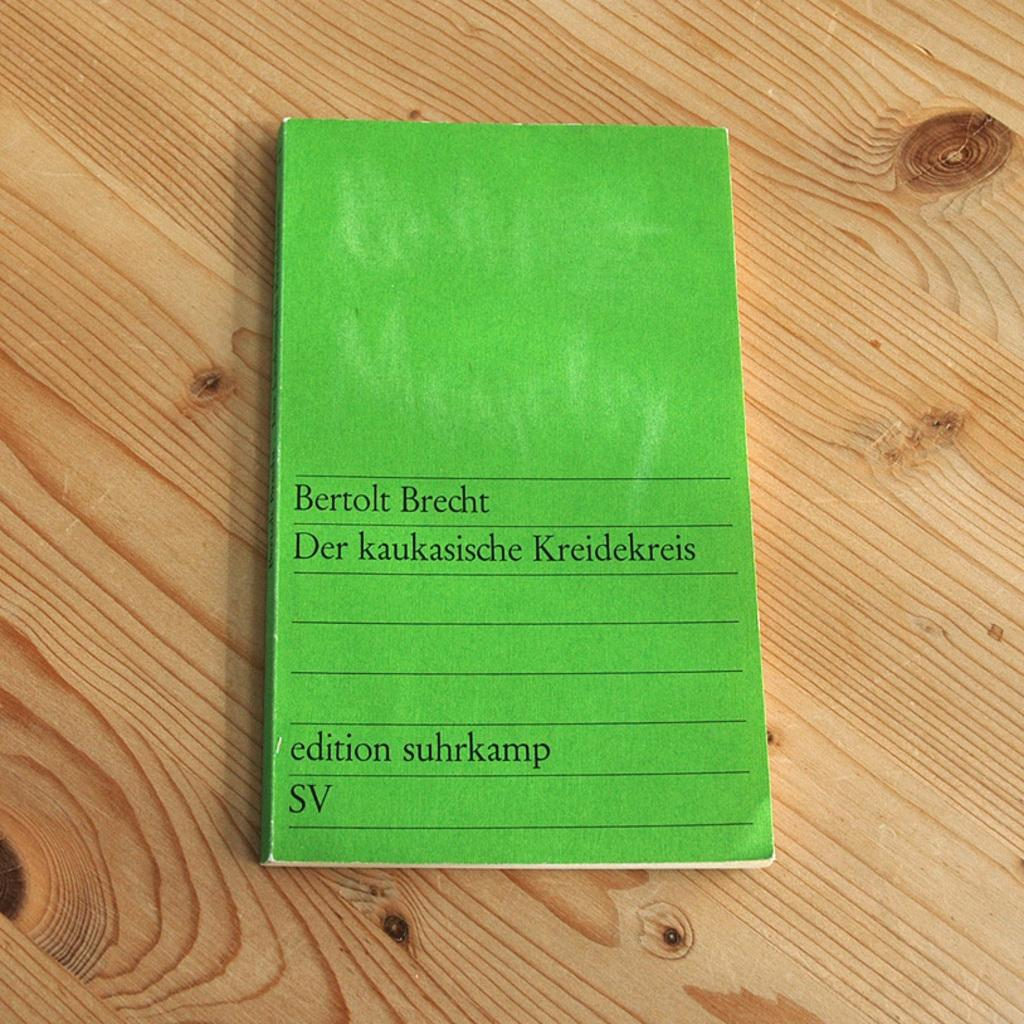book: (215, 192, 779, 834)
